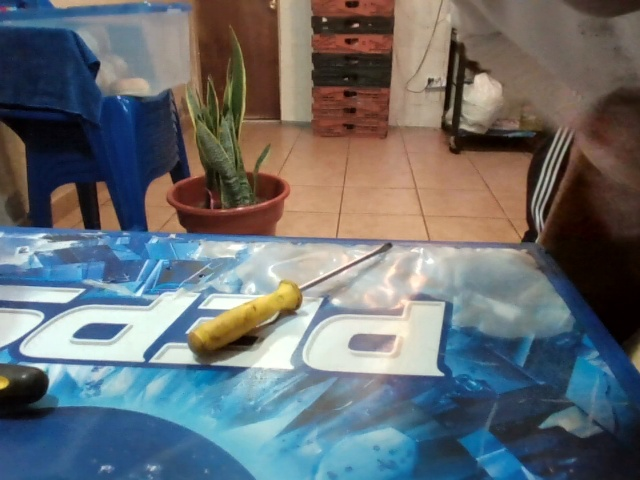destornillador: (186, 241, 394, 359), (0, 363, 49, 409)
